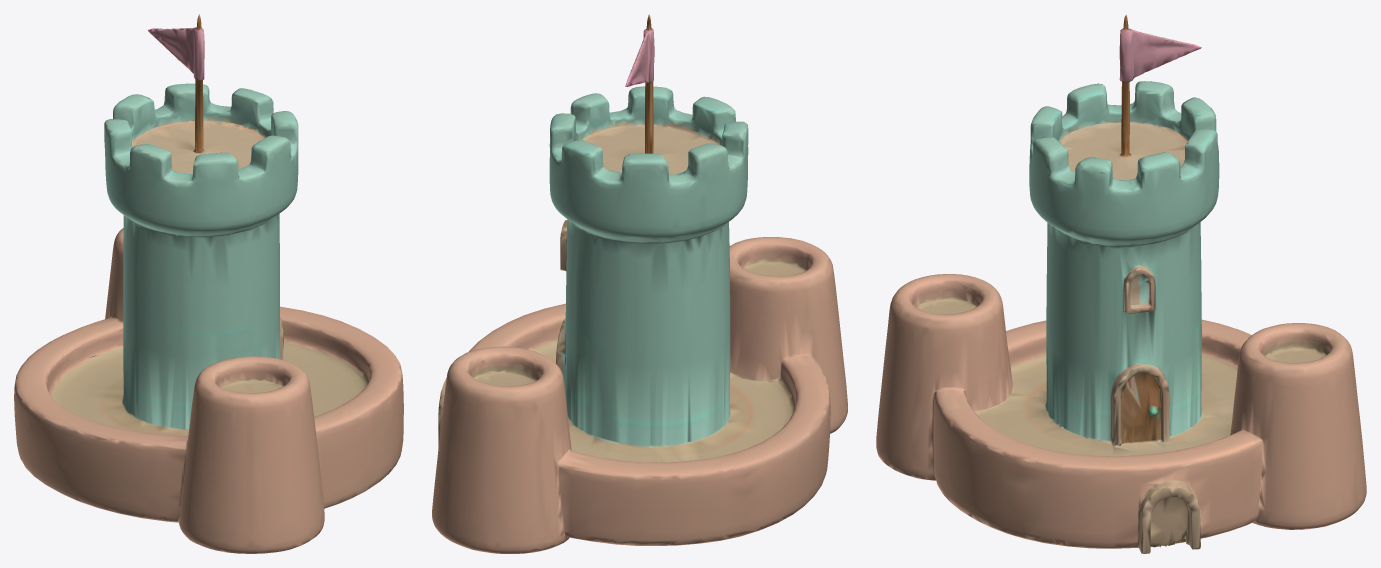
3 views of the same model, side by side, from view 1: azimuth 30°, elevation 25°; view 2: azimuth 150°, elevation 25°; view 3: azimuth 270°, elevation 25° (orthographic). The views are drawn at different scales.
Visible parts, largest first — view 1: repaired; view 2: repaired; view 3: repaired.
Part boxes in pixels (left/top/right/bottom): repaired: left=14, top=14, right=403, bottom=553; repaired: left=432, top=14, right=847, bottom=553; repaired: left=876, top=14, right=1366, bottom=553.
Size of the model in its own units: 0.7851 by 0.9995 by 0.9691.
1 material, 1 textured.
